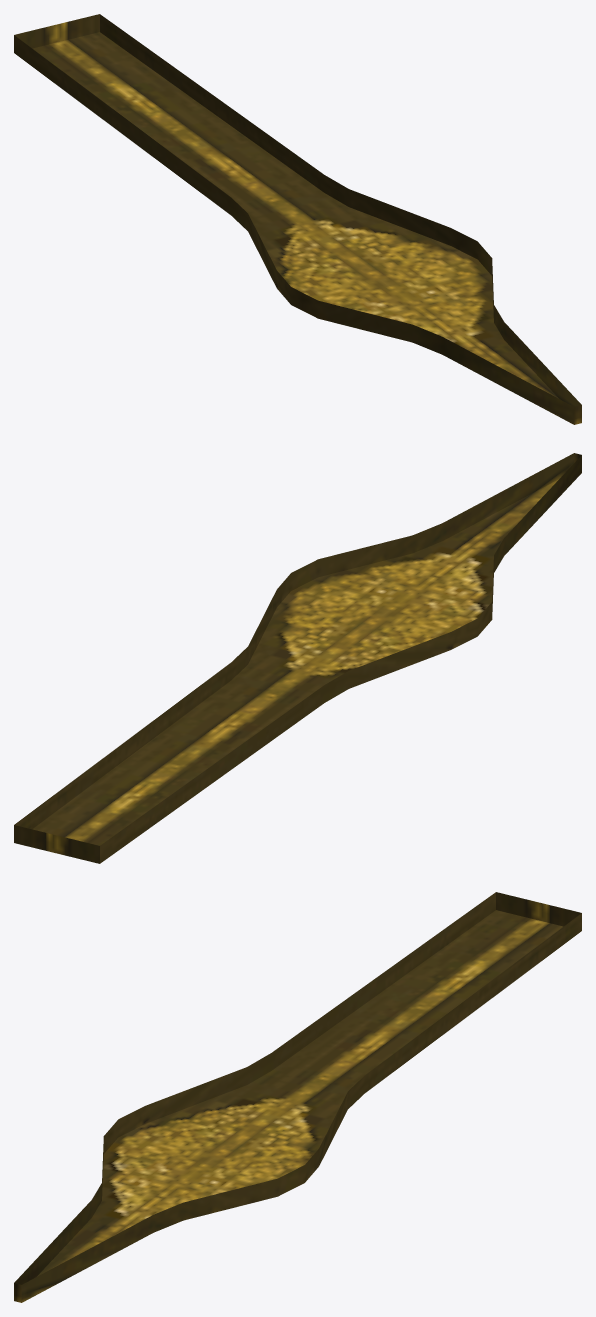
The model's file is nt_2020_wall_clock_01_hours_LOD0.obj.
3 renders of one model, top to bottom at view 1: azimuth 30°, elevation 25°; view 2: azimuth 150°, elevation 25°; view 3: azimuth 330°, elevation 25°, orthographic.
Parts seen in each view (by area): view 1: mtl_nt_2020_wall_clock_01; view 2: mtl_nt_2020_wall_clock_01; view 3: mtl_nt_2020_wall_clock_01.
Boxes of the visible parts, x1,y1,x2,y2 form: mtl_nt_2020_wall_clock_01: (14, 14, 581, 424); mtl_nt_2020_wall_clock_01: (14, 453, 581, 863); mtl_nt_2020_wall_clock_01: (14, 892, 581, 1302).
Bounding box in the file's own units: 2.46 × 0.2279 × 11.91.
